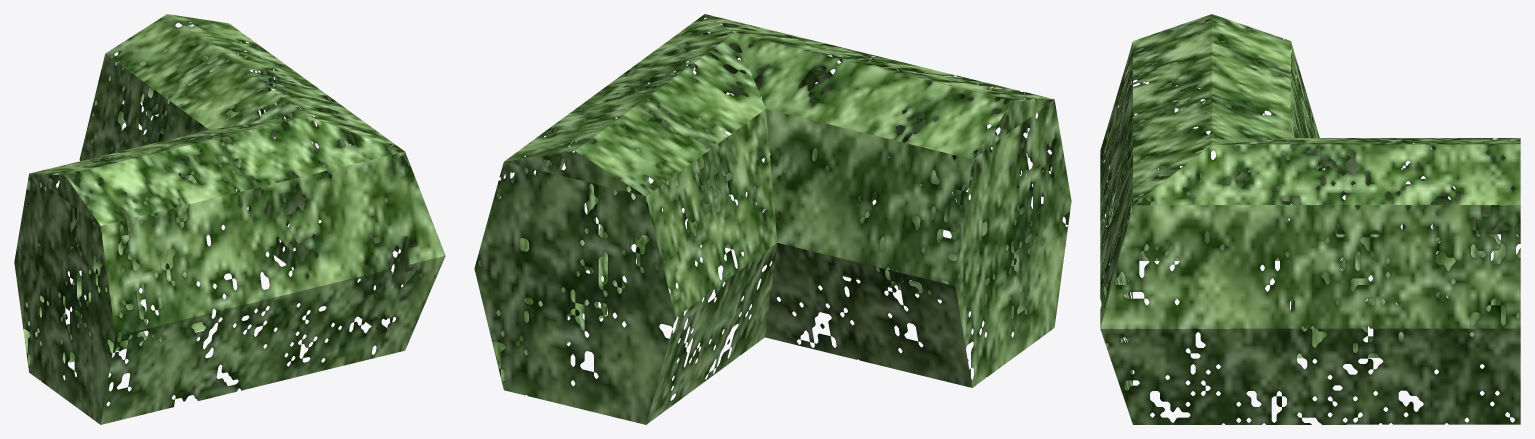
The model's file is bush_square_corner_summer.fbx.
3 renders of one model, left to right at view 1: azimuth 30°, elevation 25°; view 2: azimuth 150°, elevation 25°; view 3: azimuth 270°, elevation 25°, orthographic. The views are drawn at different scales.
Parts seen in each view (by area): view 1: bush_square_corner_summer; view 2: bush_square_corner_summer; view 3: bush_square_corner_summer.
Part boxes in pixels (x1=…): bush_square_corner_summer: x1=14, y1=14, x2=445, y2=424; bush_square_corner_summer: x1=474, y1=14, x2=1071, y2=424; bush_square_corner_summer: x1=1100, y1=14, x2=1520, y2=424.
Bounding box in the file's own units: 136 × 87.65 × 135.
Materials: 1 (1 with a texture image).
